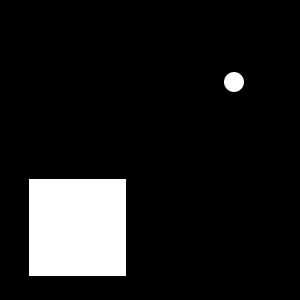circle: (29, 179, 126, 276)
rectangle: (224, 72, 244, 92)
